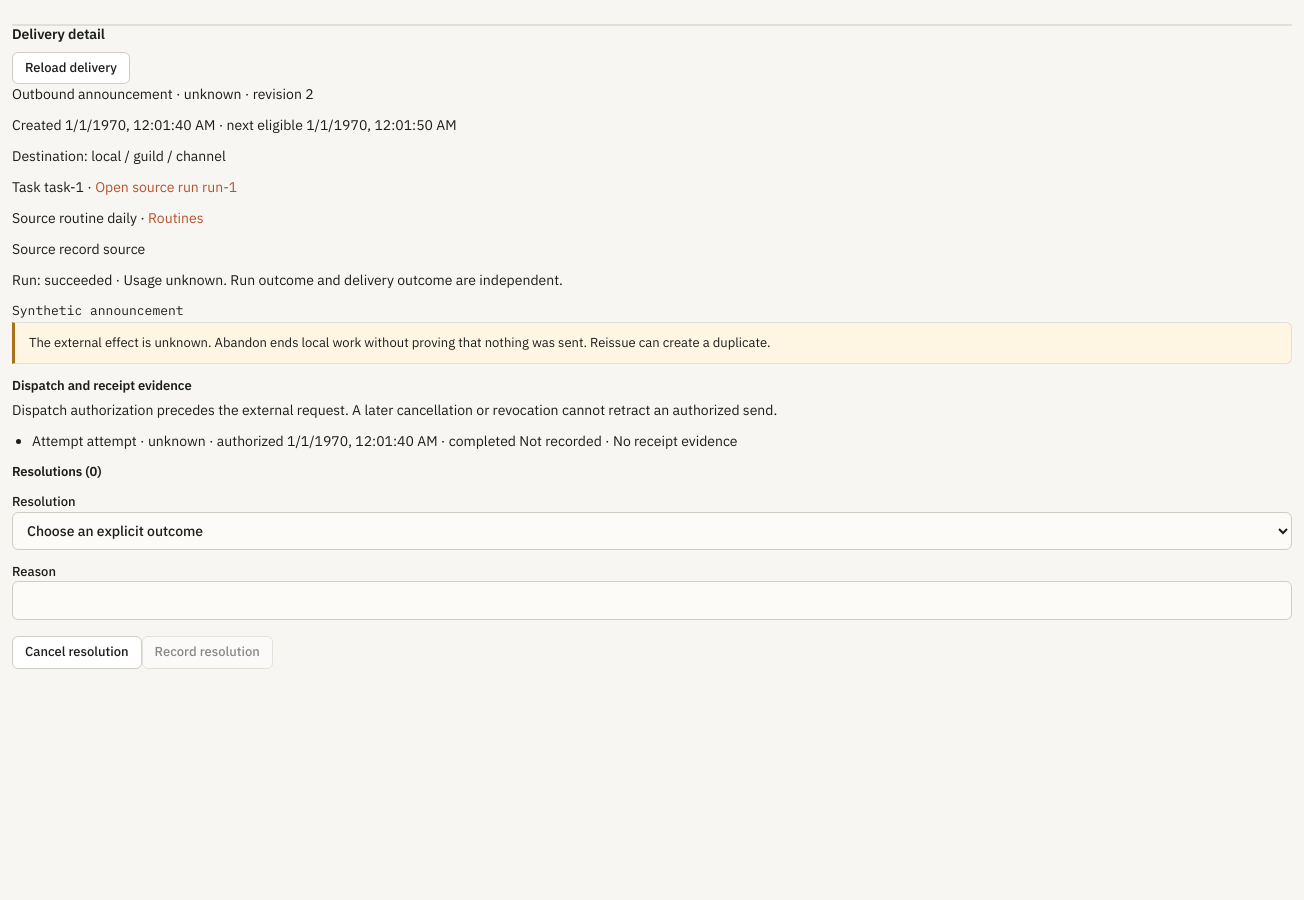
Test: requires duplicate risk acknowledgement and sends the inspected revision
The width and height of the screenshot is (1304, 900).
Select "Reissue with duplicate risk" in the dropdown labelled "Resolution" at (652, 531), box [12, 512, 1292, 550]
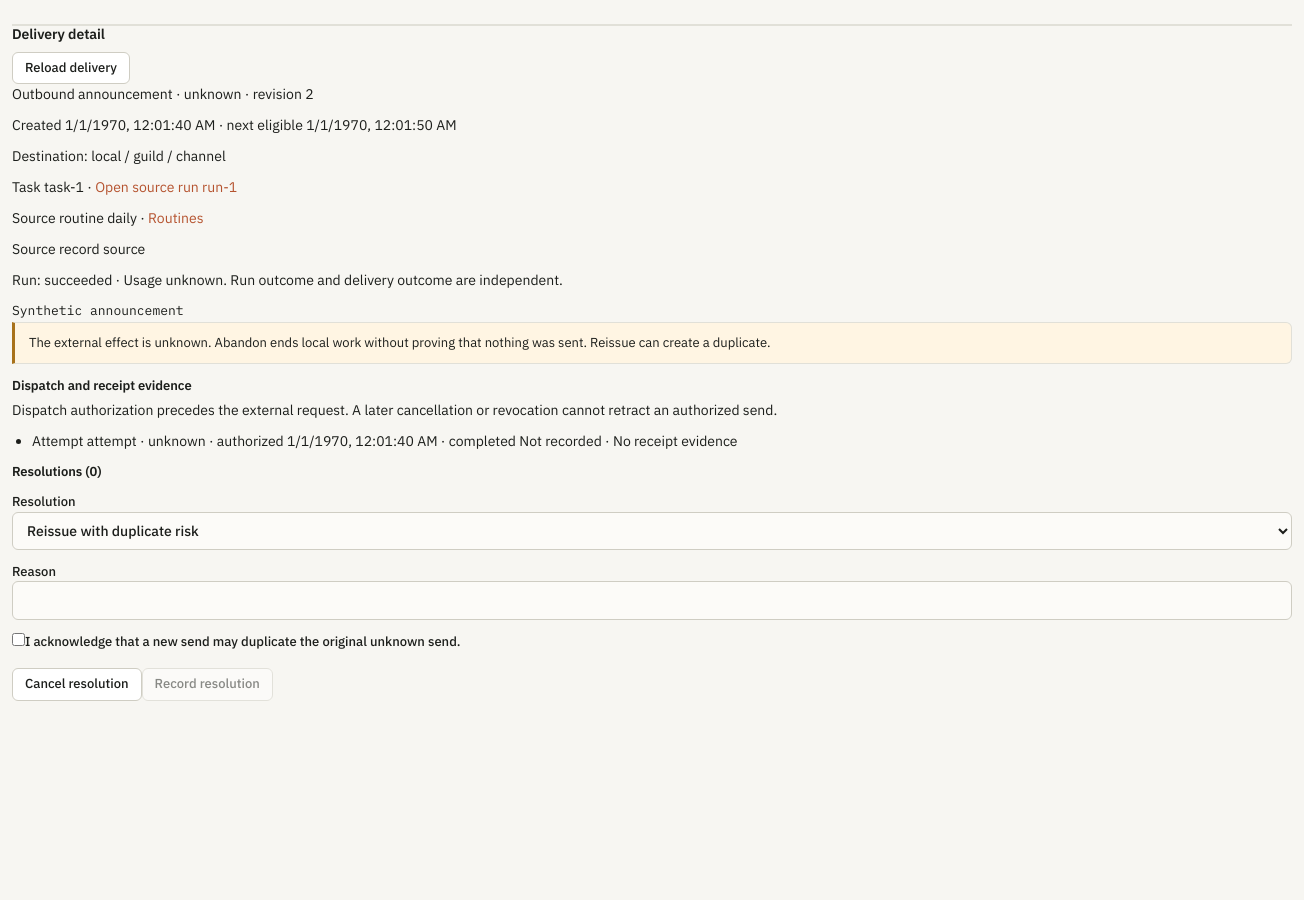
Type "Operator accepts duplicate risk" into the field labelled "Reason" at (652, 601), box [12, 581, 1292, 620]
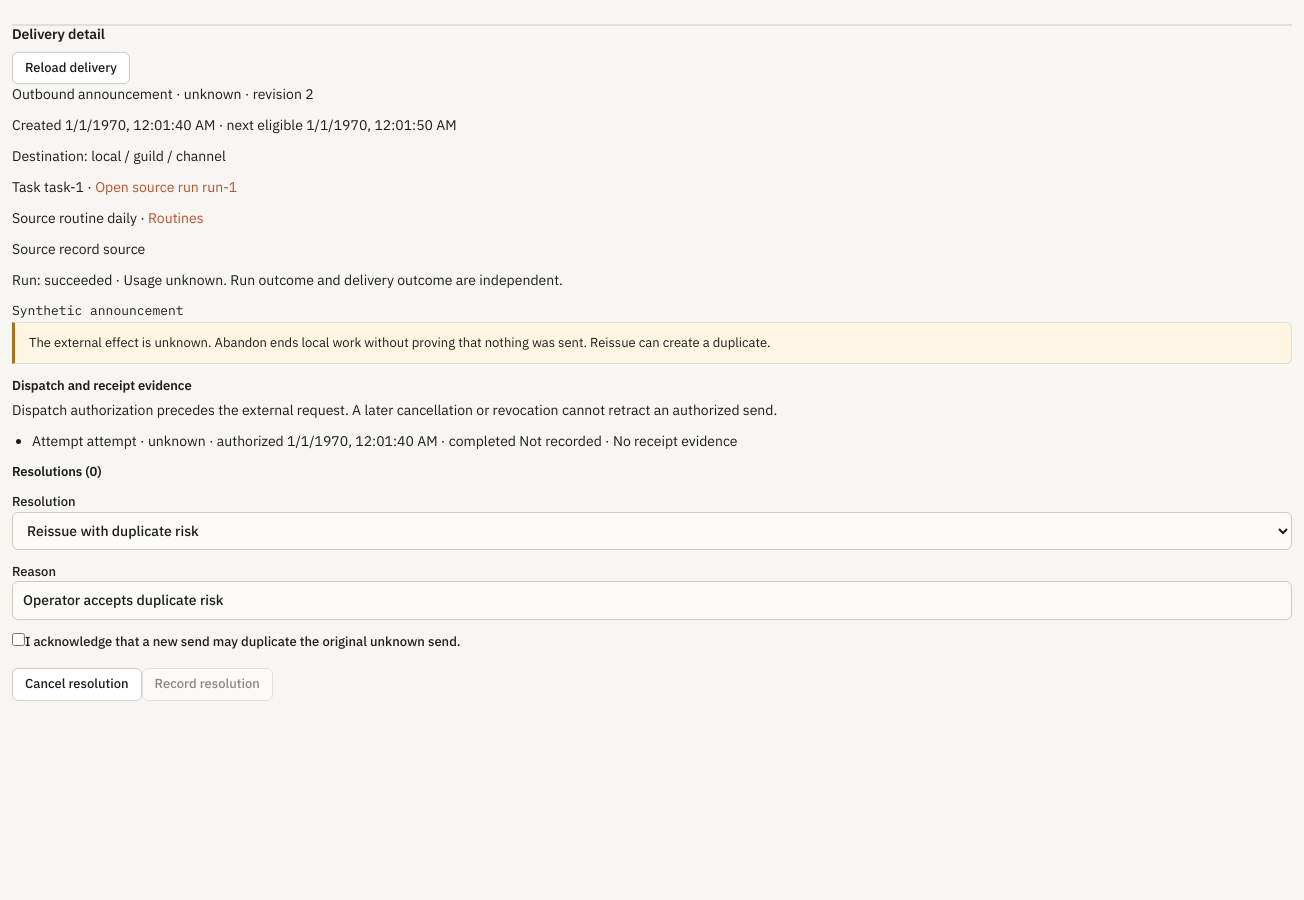
Expected: the button "Record resolution" is disabled, [142, 668, 273, 701]
Click the checkbox labelled "I acknowledge" at (18, 640), box [12, 633, 25, 646]
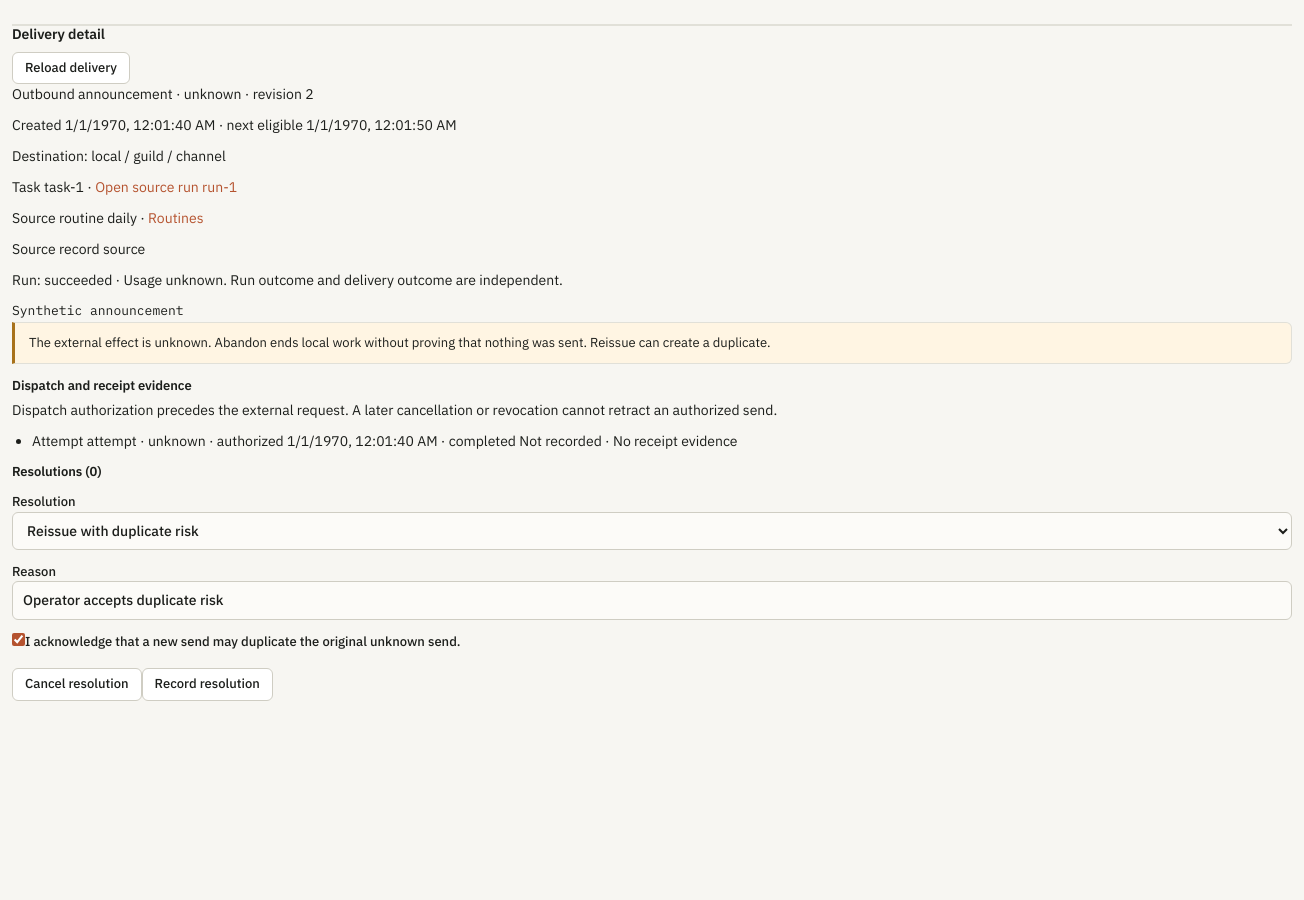
Click the button "Record resolution" at (207, 684), box [142, 668, 273, 701]
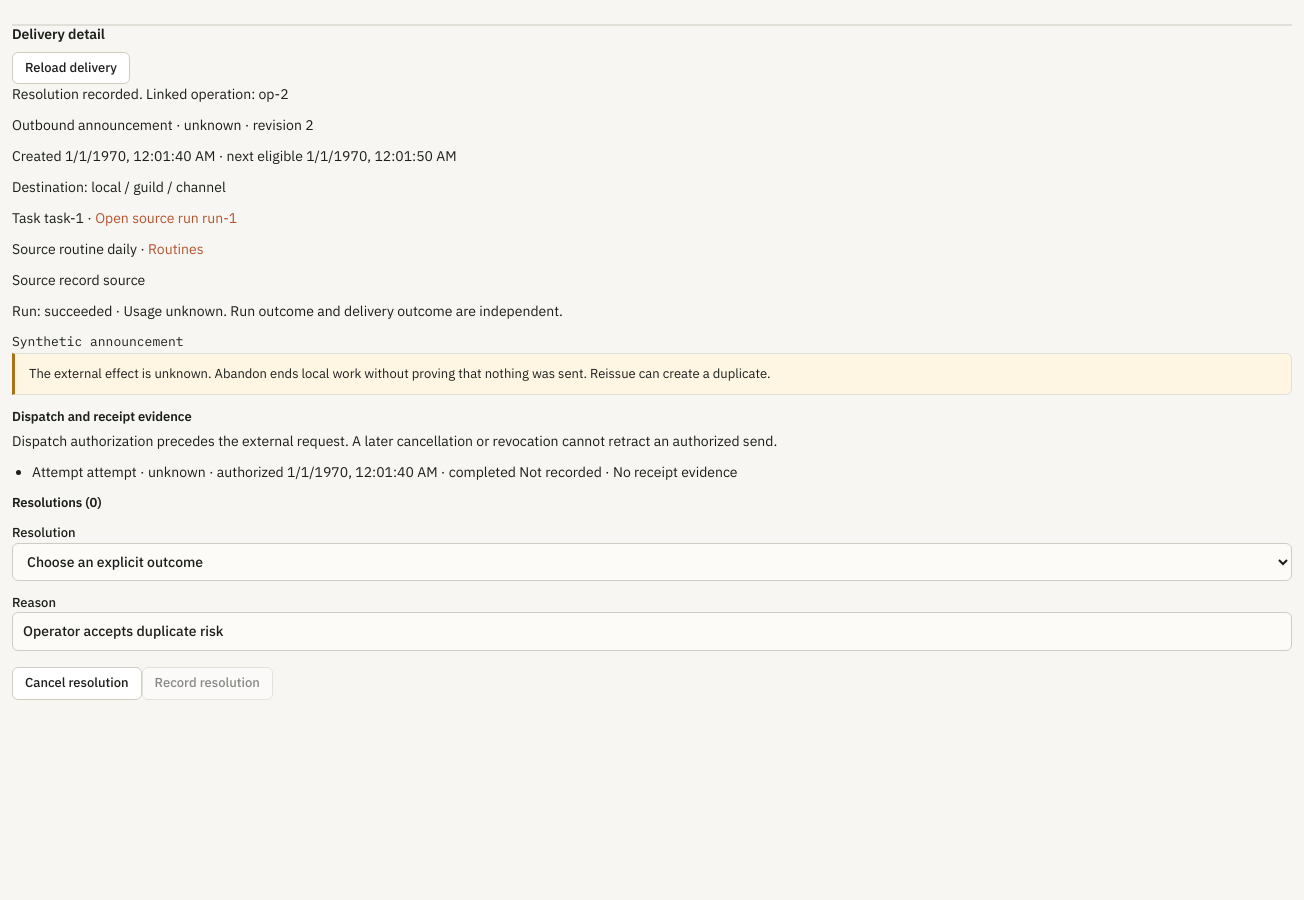
Expected: the text "Resolution recorded. Linked operation: op-2" is shown, [12, 85, 289, 103]
